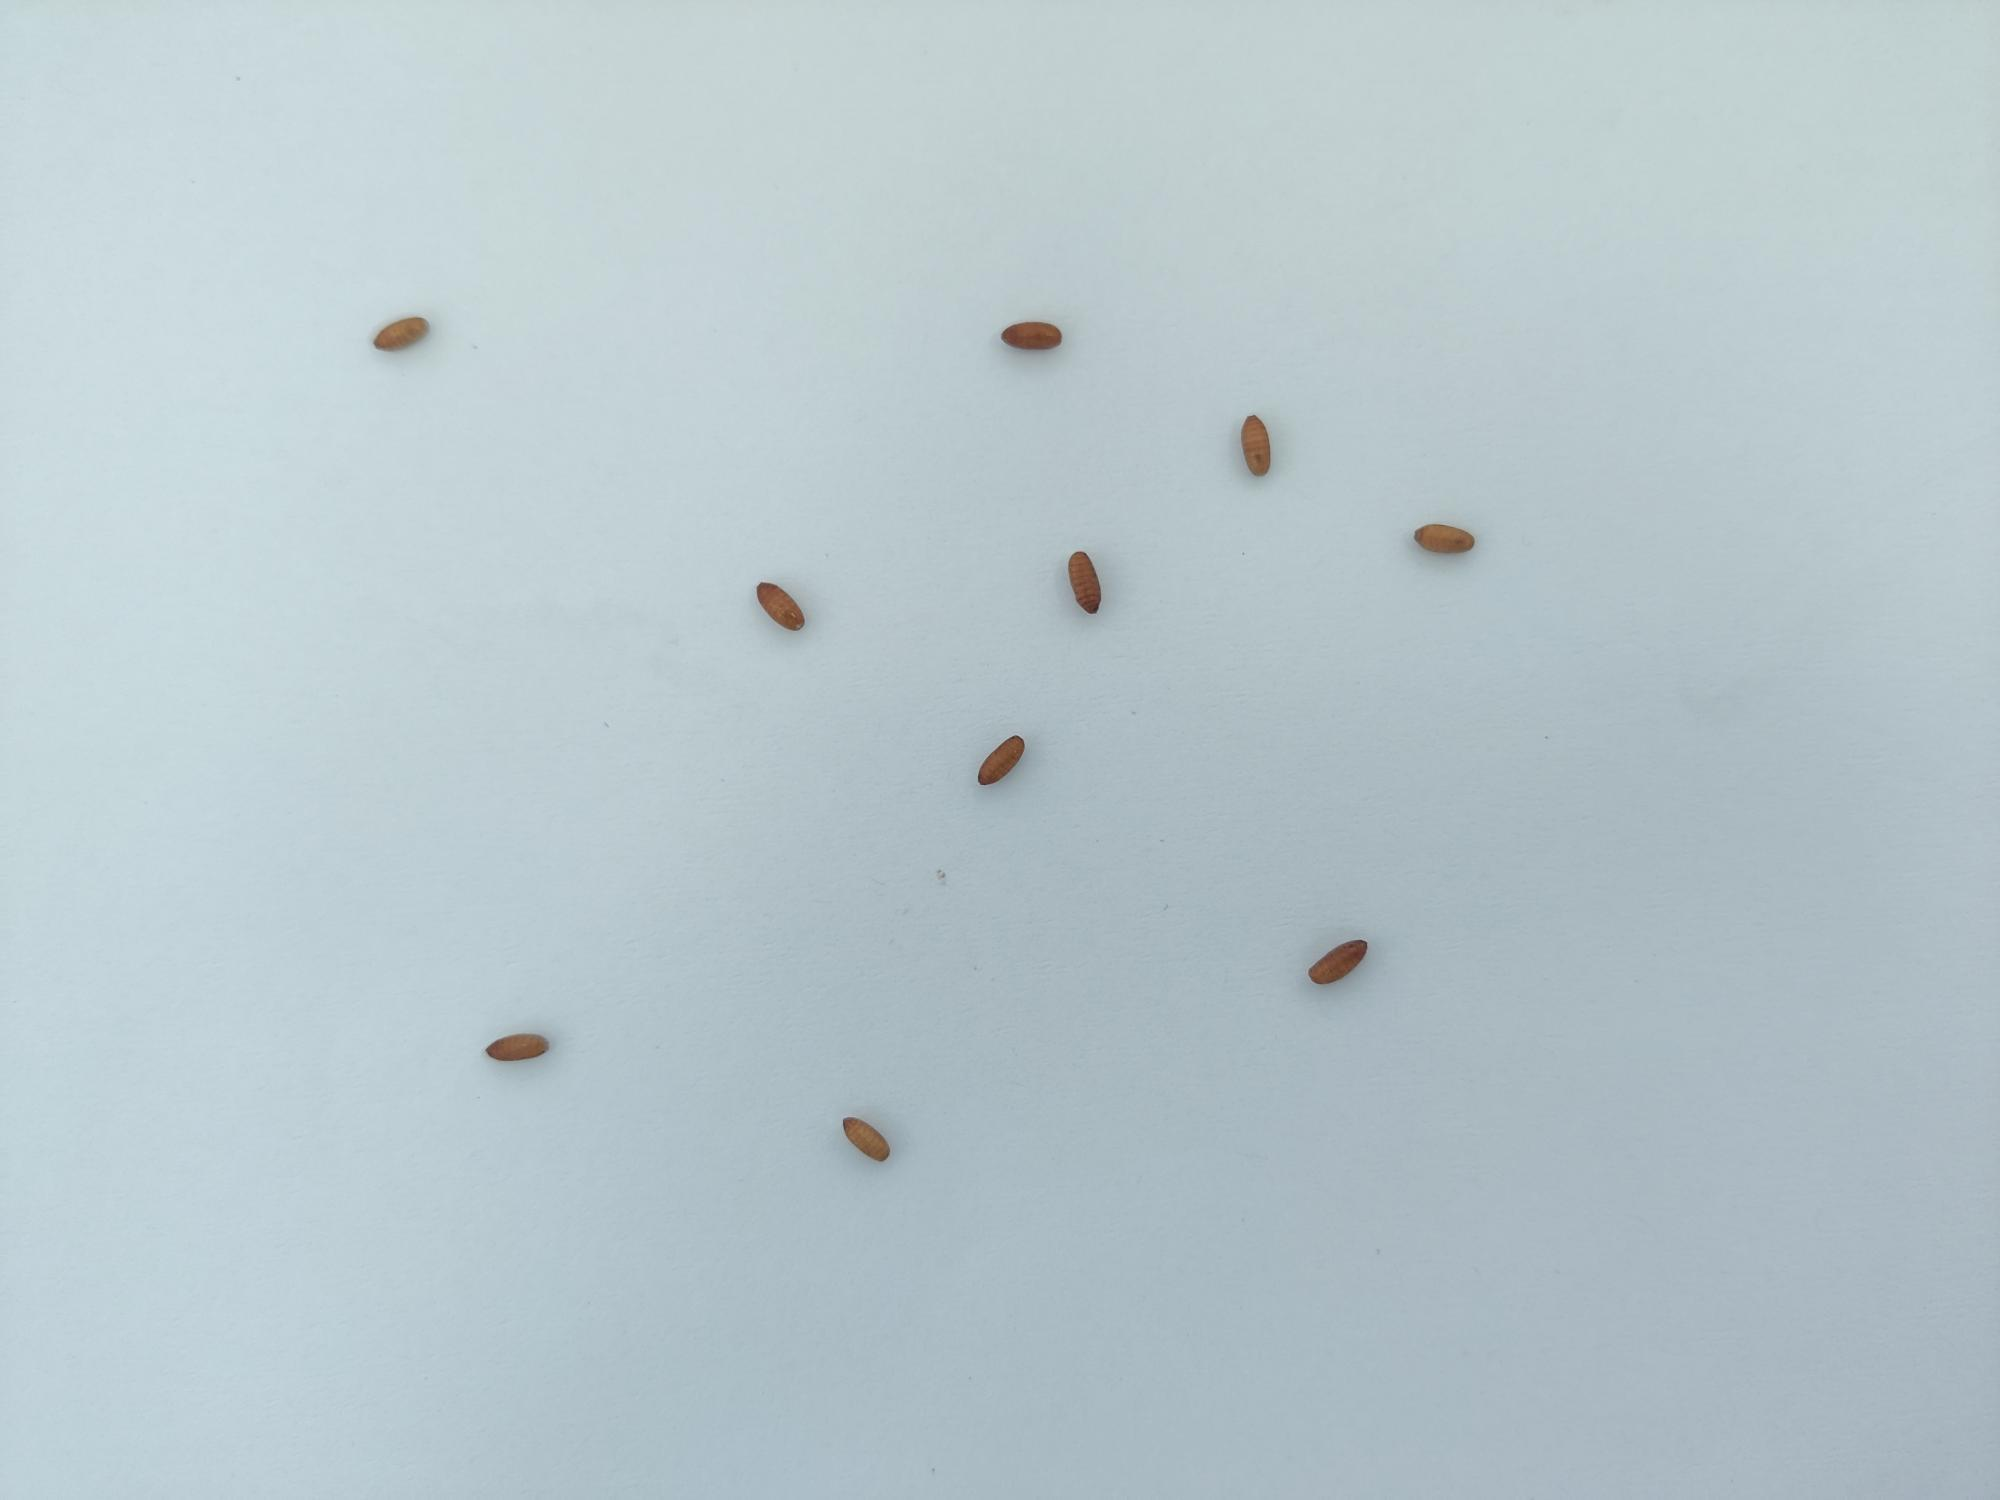pupae: (1304, 933, 1376, 1001), (830, 1108, 899, 1169), (1061, 544, 1115, 619), (1408, 512, 1485, 562), (1231, 411, 1283, 485), (973, 728, 1033, 791), (751, 578, 813, 638), (992, 314, 1071, 359), (476, 1027, 559, 1070), (370, 307, 436, 359)
